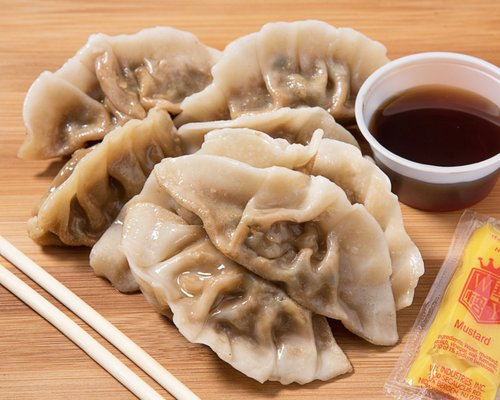pizza: (355, 51, 500, 213)
sushi: (354, 51, 500, 213)
